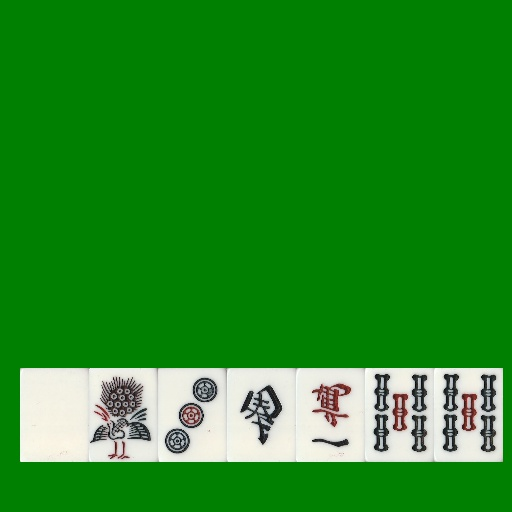1m: (296, 368, 365, 462)
1s: (89, 368, 158, 462)
3p: (158, 368, 227, 462)
5s: (365, 368, 434, 462), (434, 368, 503, 462)
south: (227, 368, 296, 462)
white: (20, 368, 89, 462)
